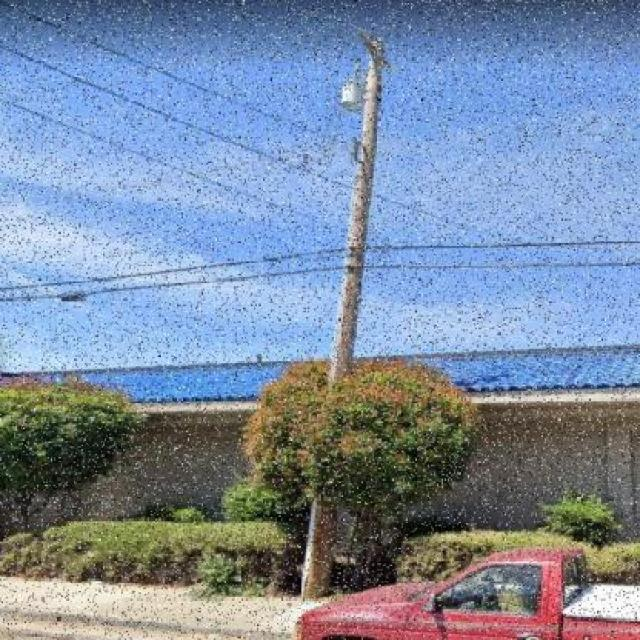pole: (286, 17, 420, 594)
